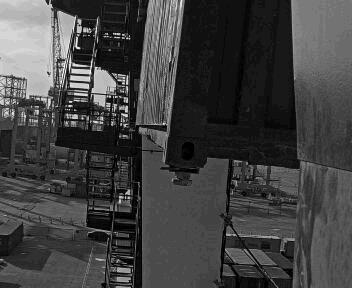twist_lock_1: (164, 161, 208, 193)
